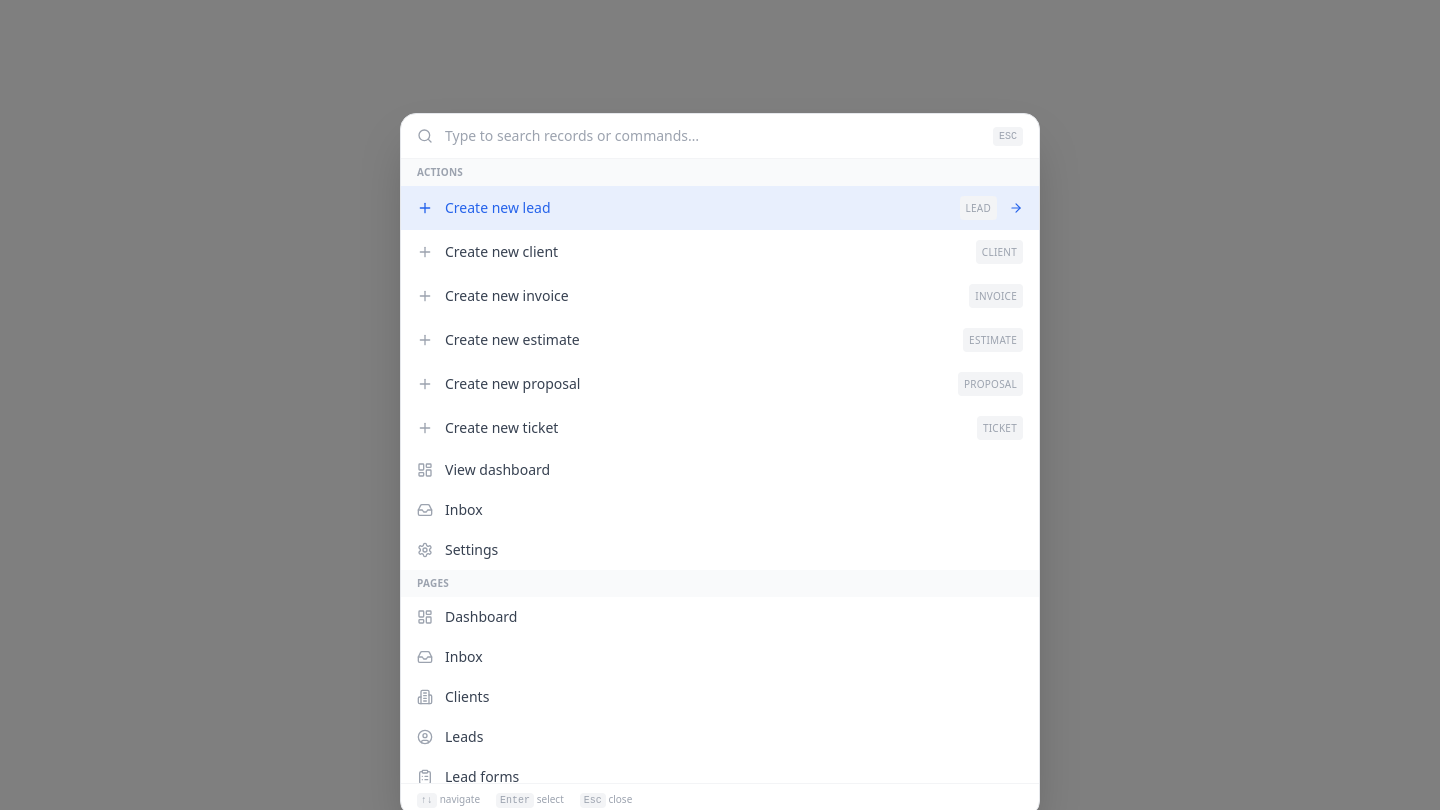
Test: CommandPalette component › filters static items by typed query
Type "invoice" into the field with placeholder "Type to search records or commands…".
click(713, 136); type("invoice")  # box [445,126,981,146]
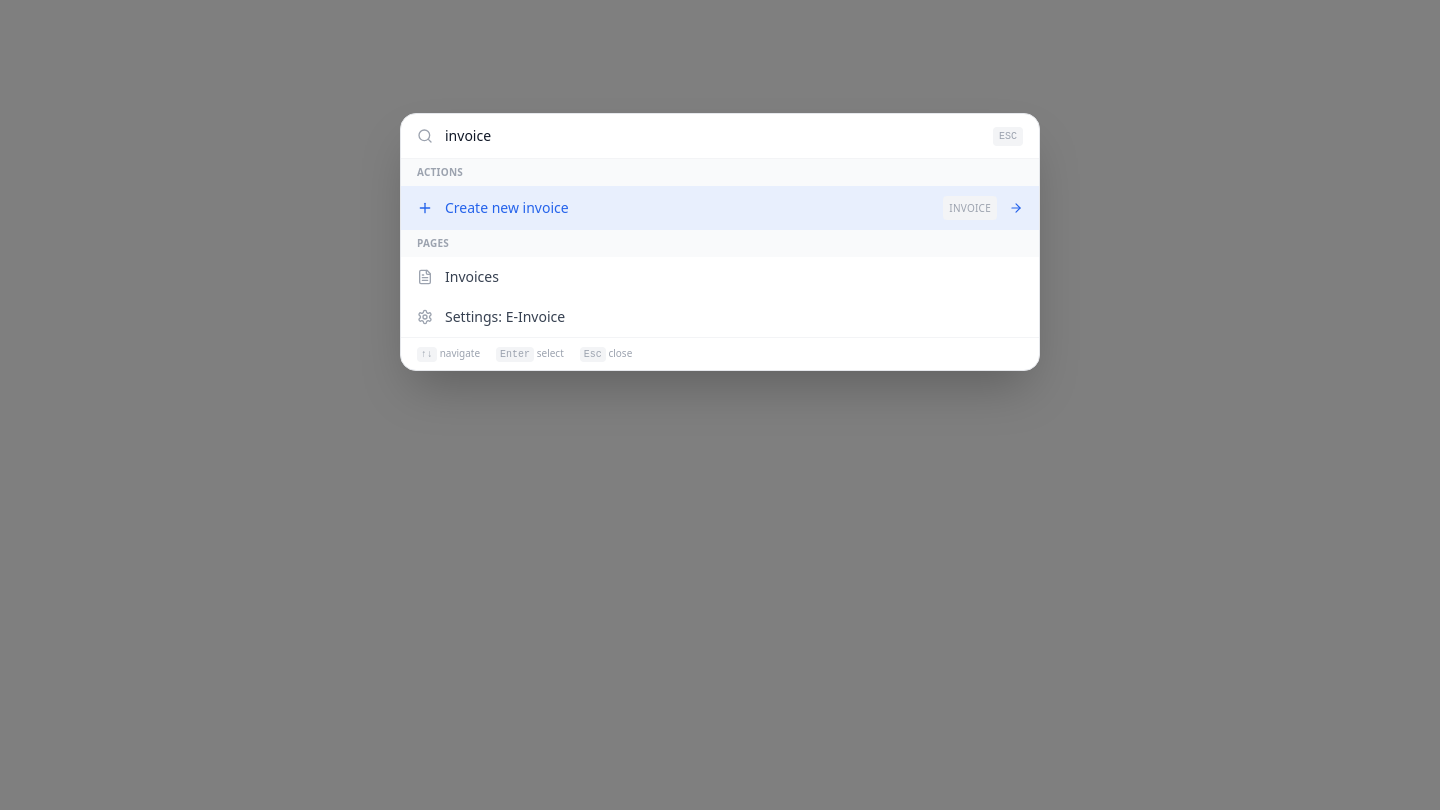
Expected: the text "Create new invoice" is shown, [445,198,569,217]
Expected: the option "Create new lead" is gone
